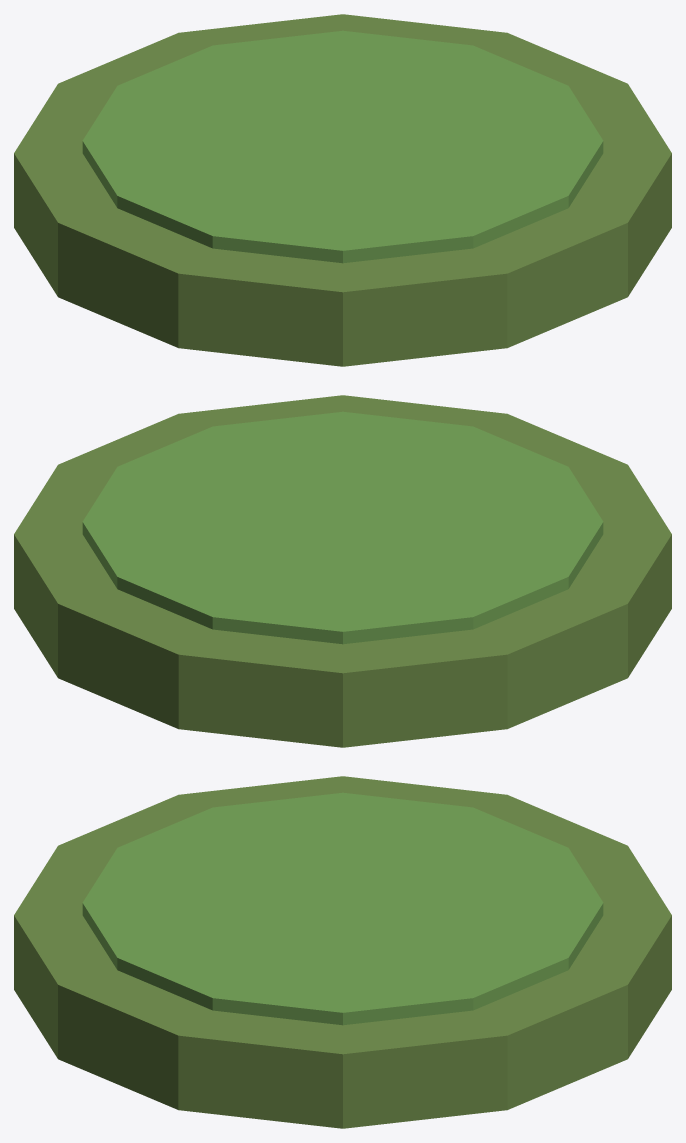
Rendered from PickleSlice.glb.
3 views of the same model, one above another, from view 1: azimuth 30°, elevation 25°; view 2: azimuth 150°, elevation 25°; view 3: azimuth 270°, elevation 25° (orthographic).
Visible parts, largest first — view 1: PickleSlice; view 2: PickleSlice; view 3: PickleSlice.
Part boxes in pixels (bbox=[...]): PickleSlice: bbox=[14, 14, 671, 366]; PickleSlice: bbox=[14, 395, 671, 747]; PickleSlice: bbox=[14, 776, 671, 1128].
Bounding box in the file's own units: 0.048 × 0.007 × 0.048.
